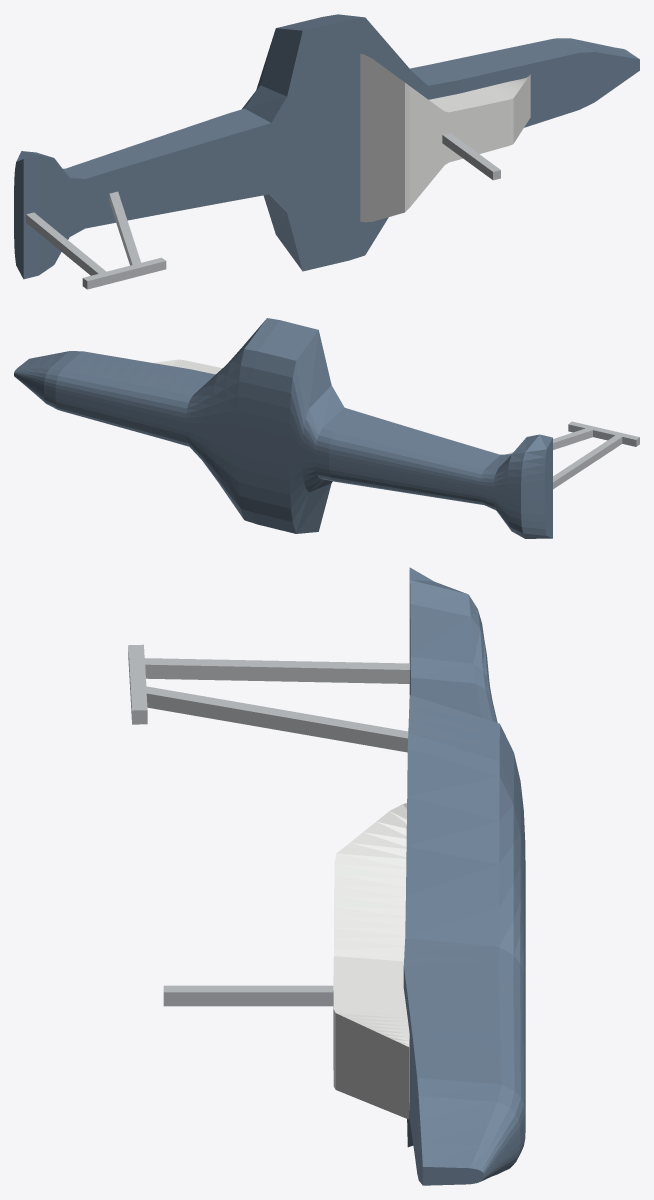
Rendered from loft-wing-in-ground-highside.glb.
3 renders of one model, top to bottom at view 1: azimuth 30°, elevation 25°; view 2: azimuth 150°, elevation 25°; view 3: azimuth 270°, elevation 25°, orthographic. The views are drawn at different scales.
Parts seen in each view (by area): view 1: loft-wing-in-ground-highside; view 2: loft-wing-in-ground-highside; view 3: loft-wing-in-ground-highside.
Boxes of the visible parts, left/top/right/bottom form: loft-wing-in-ground-highside: left=14, top=14, right=639, bottom=289; loft-wing-in-ground-highside: left=14, top=318, right=639, bottom=538; loft-wing-in-ground-highside: left=128, top=567, right=525, bottom=1185.
Size of the model in its own units: 1.92 by 0.69 by 0.6145.
